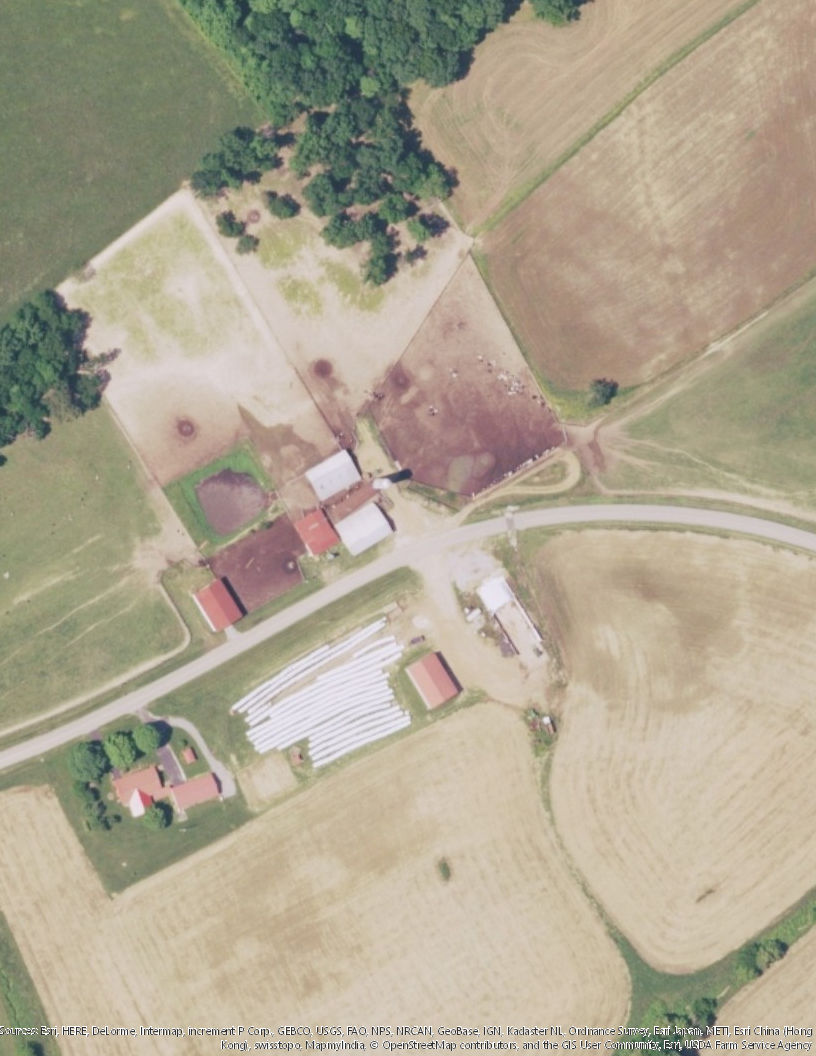cafo: (286, 448, 404, 562)
